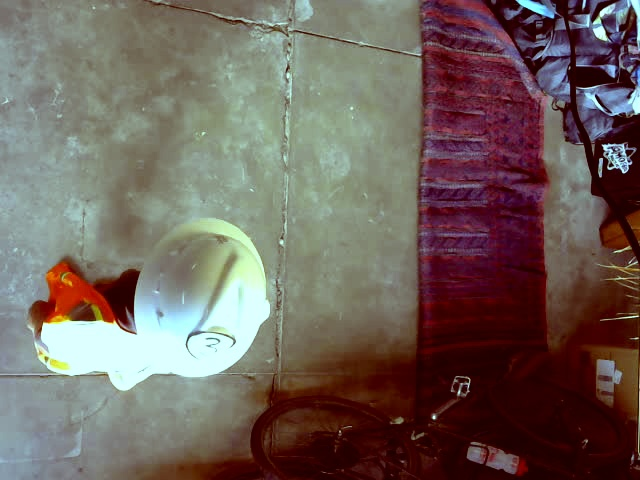three: (186, 331, 234, 362)
